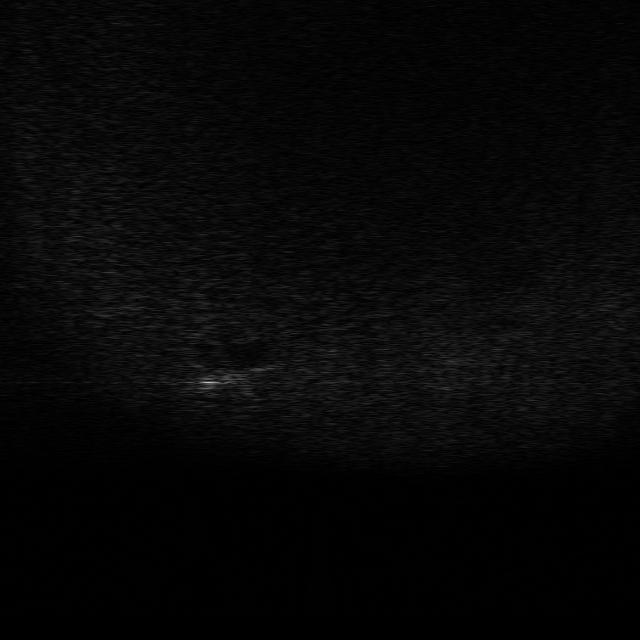plane: (182, 358, 280, 397)
